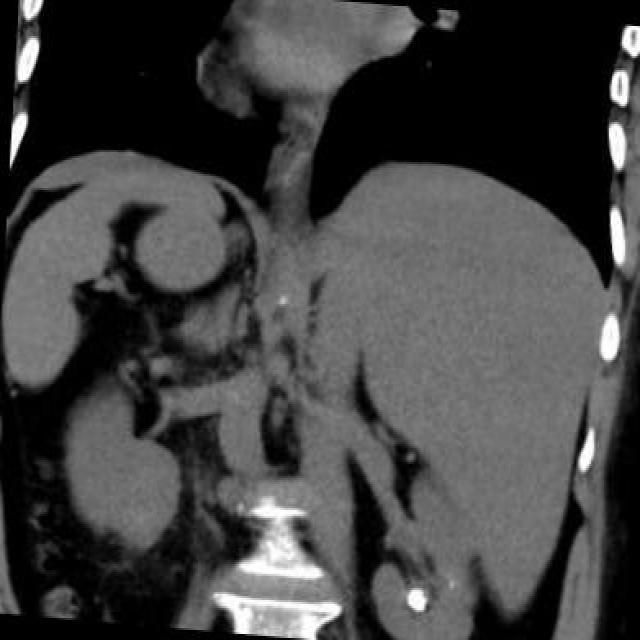Tas_Var: (399, 585, 429, 615), (444, 579, 454, 593)
